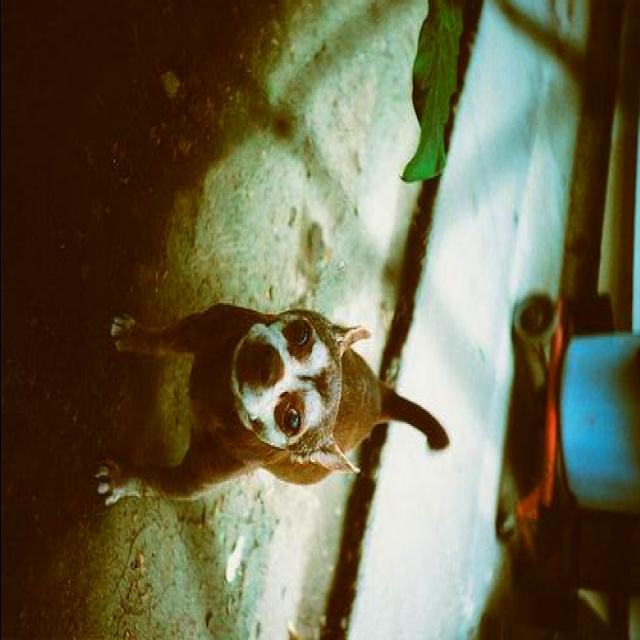chihuahua: (90, 302, 450, 508)
